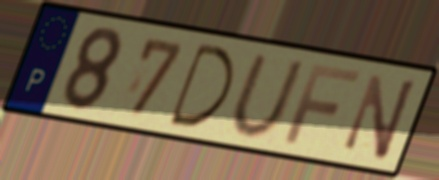7: (127, 36, 184, 118)
8: (62, 24, 124, 112)
D: (165, 40, 238, 131)
F: (281, 61, 365, 148)
N: (340, 71, 421, 165)
U: (229, 52, 308, 142)
